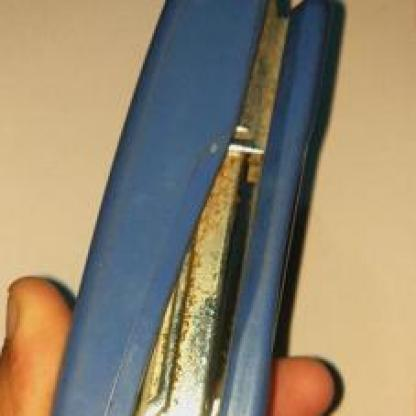stapler: (33, 2, 346, 414)
